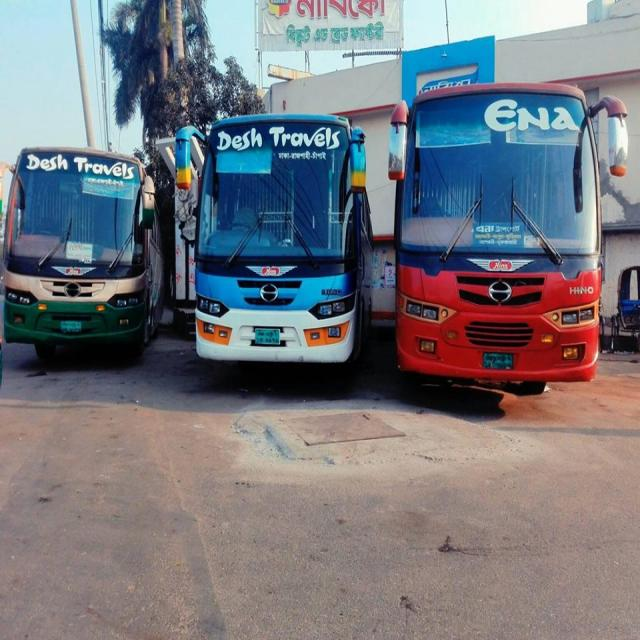bus: (387, 81, 628, 385), (174, 112, 373, 366), (6, 146, 167, 344)
